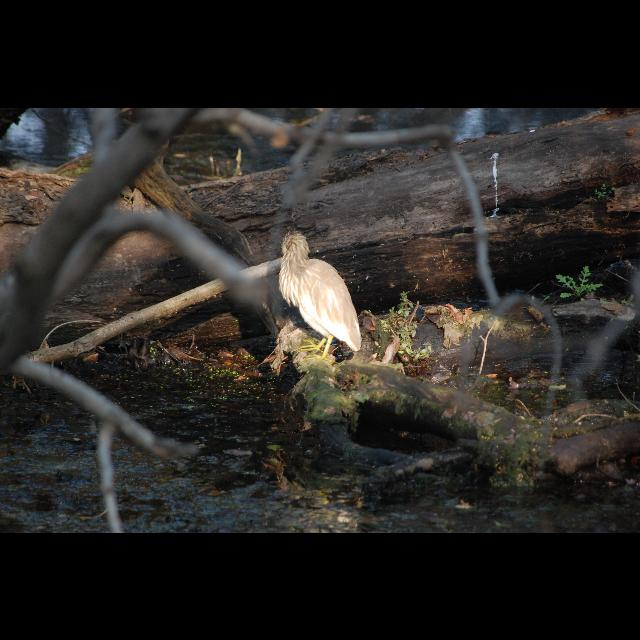heron: (277, 232, 367, 354)
